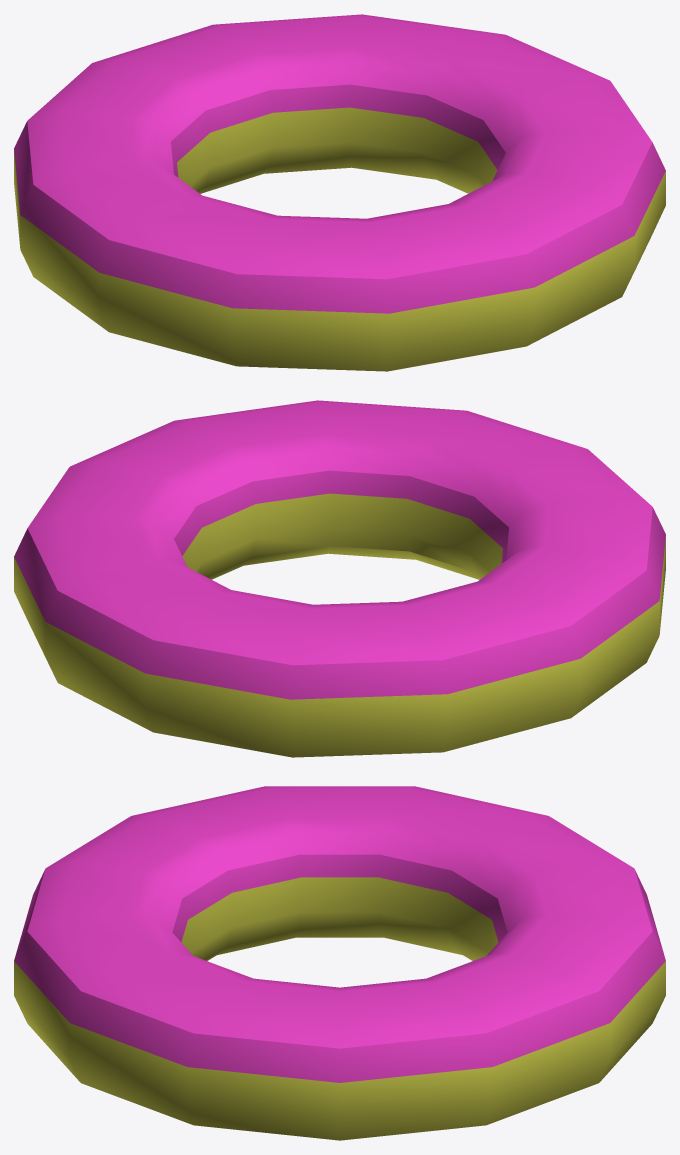
File: donut.fbx
3 renders of one model, top to bottom at view 1: azimuth 30°, elevation 25°; view 2: azimuth 150°, elevation 25°; view 3: azimuth 270°, elevation 25°, orthographic.
Parts seen in each view (by area): view 1: donut; view 2: donut; view 3: donut.
Boxes of the visible parts, x1,y1,x2,y2 form: donut: [14, 14, 665, 371]; donut: [14, 400, 665, 757]; donut: [14, 786, 665, 1140].
Bounding box in the file's own units: 79.53 × 15.68 × 80.11.
